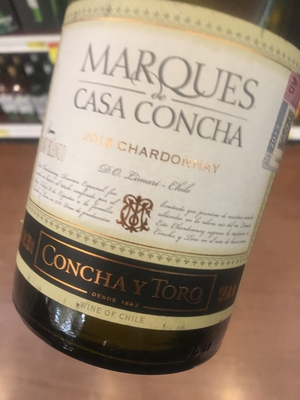marques de casa concha chardonnay: (16, 8, 300, 384)
